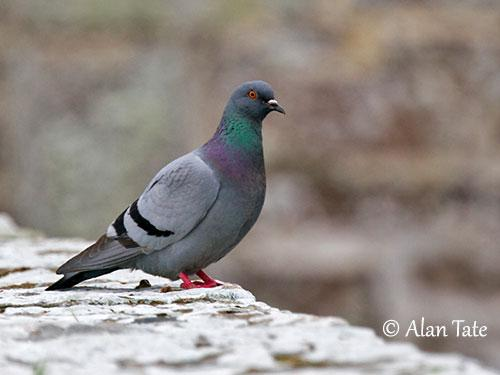Flying Rat: (45, 78, 288, 290)
